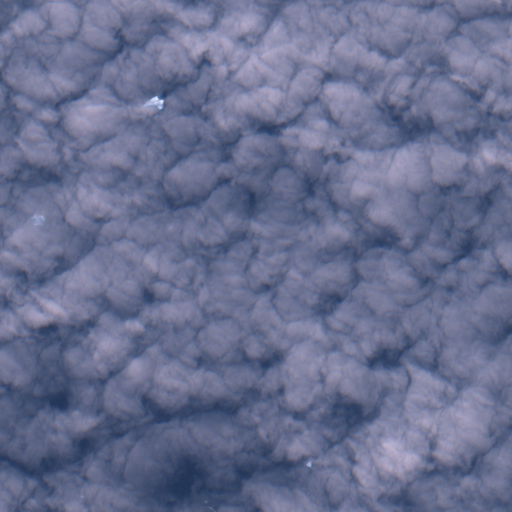Iceberg: (143, 96, 163, 109), (31, 214, 44, 224), (307, 461, 311, 466)
